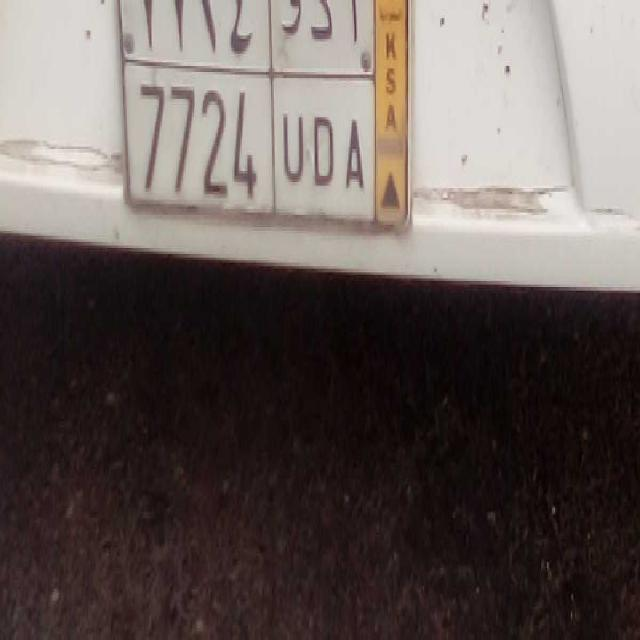license_plate: (119, 61, 375, 218)
